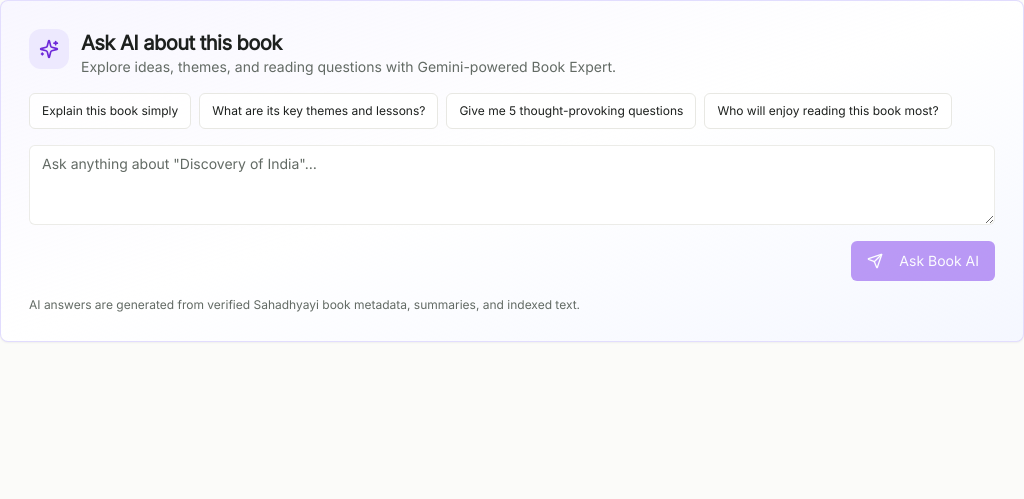
Scenario: BookAIReader Component › copies response text to clipboard when copy button is clicked
The width and height of the screenshot is (1024, 499).
Type "Tell me about this book" into the text box with placeholder "Ask anything about \"Discovery of India\"…" at (512, 185), box [29,145,995,225]
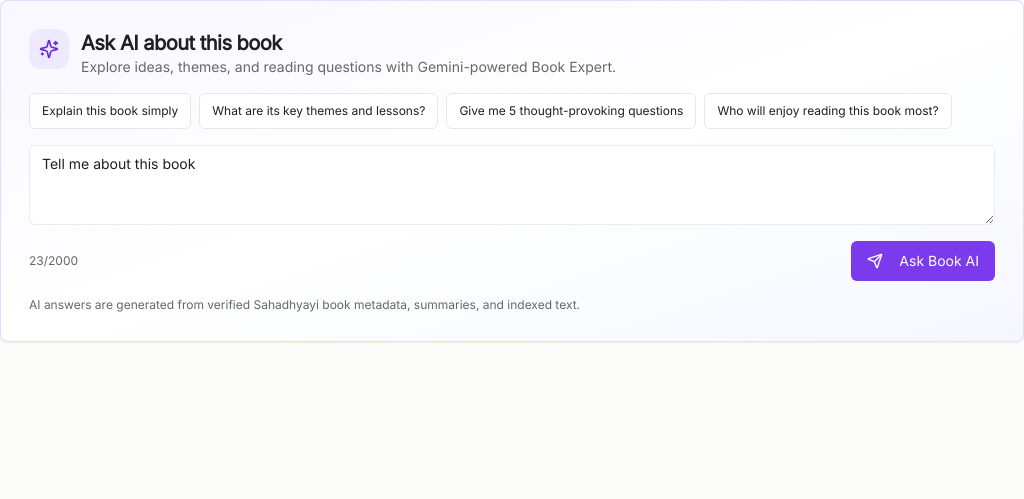
Click the button "Ask Book AI" at (923, 261), box [851,241,995,281]
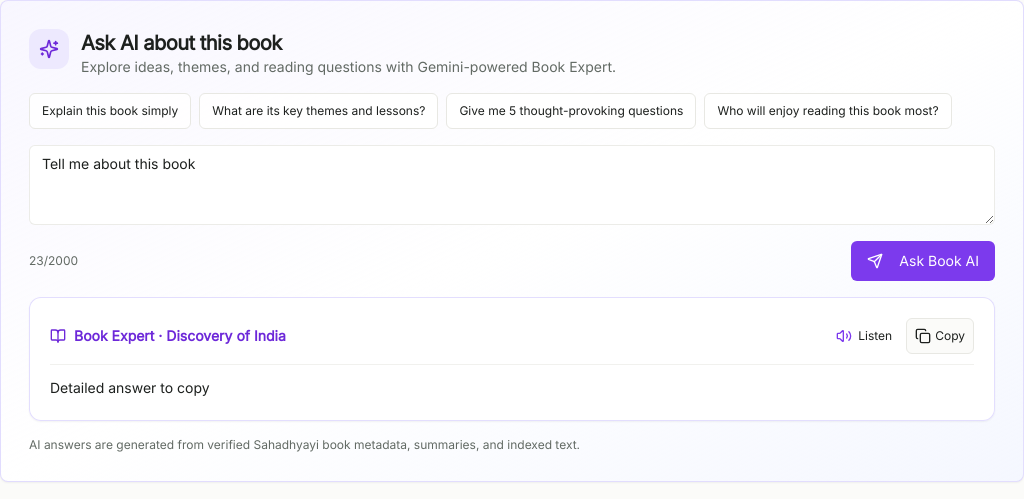
Check: the text "Detailed answer to copy" is shown, box [50,379,210,396]
Click the button "Copy" at (940, 336), box [906,318,974,354]
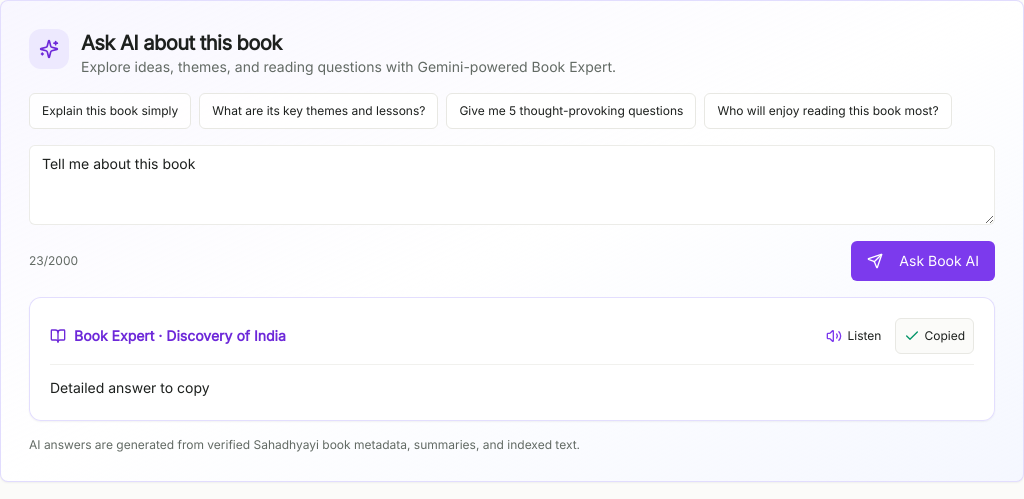
Check: the button "Copied" is shown, box [895,318,974,354]
